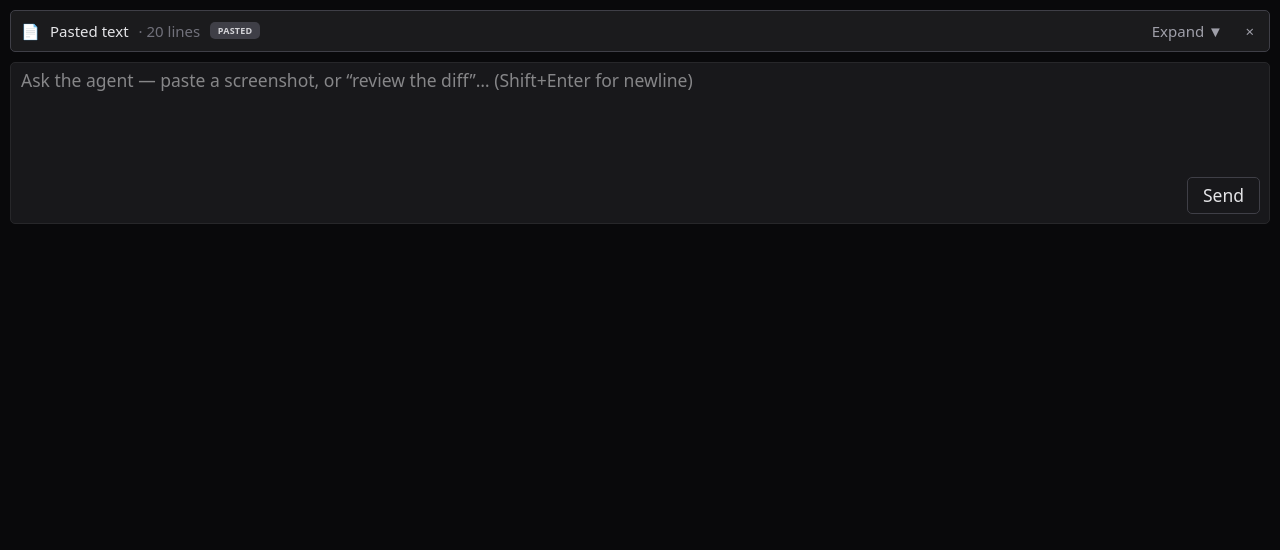
Test: ChatInput › large text paste › expands and collapses a paste chip preview
Click the button with aria-label "expand pasted text". click: coordinates (1187, 31)
box: [1144, 18, 1230, 44]
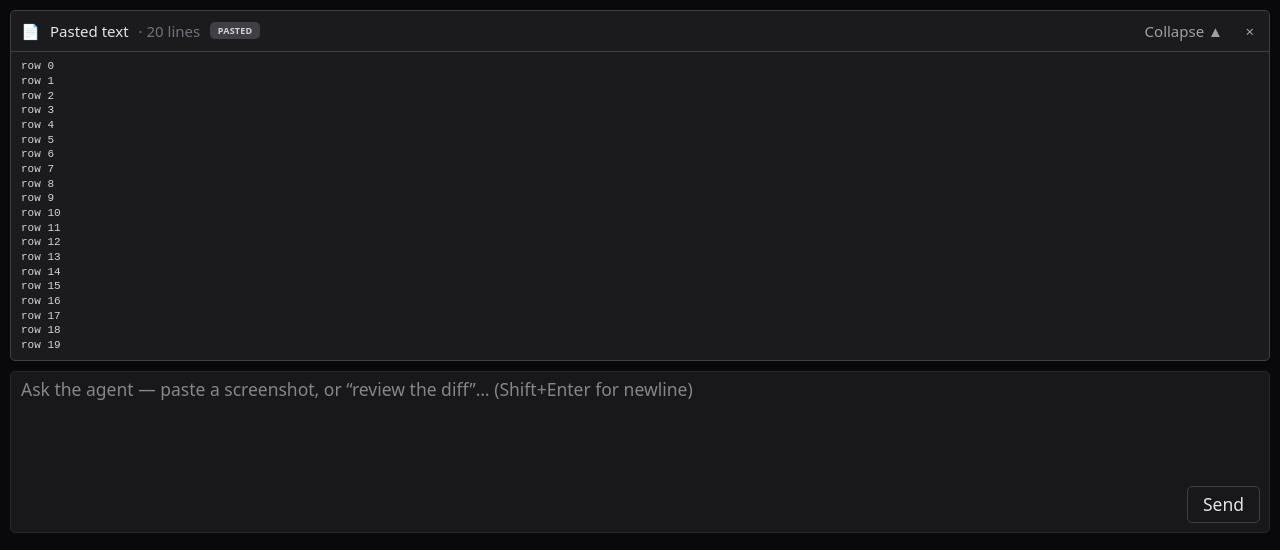
expect the text "row 19" is shown: met, box [21, 60, 61, 351]
Click the button with aria-label "collapse pasted text". click: coordinates (1184, 31)
box: [1137, 18, 1230, 44]
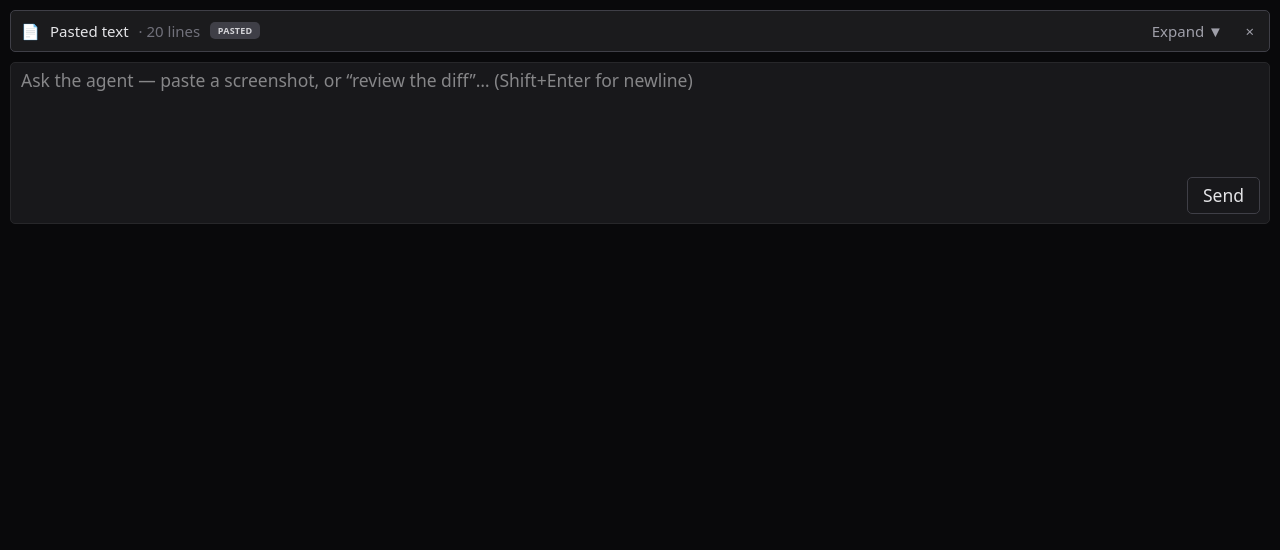
expect the text "row 19" is gone: met
